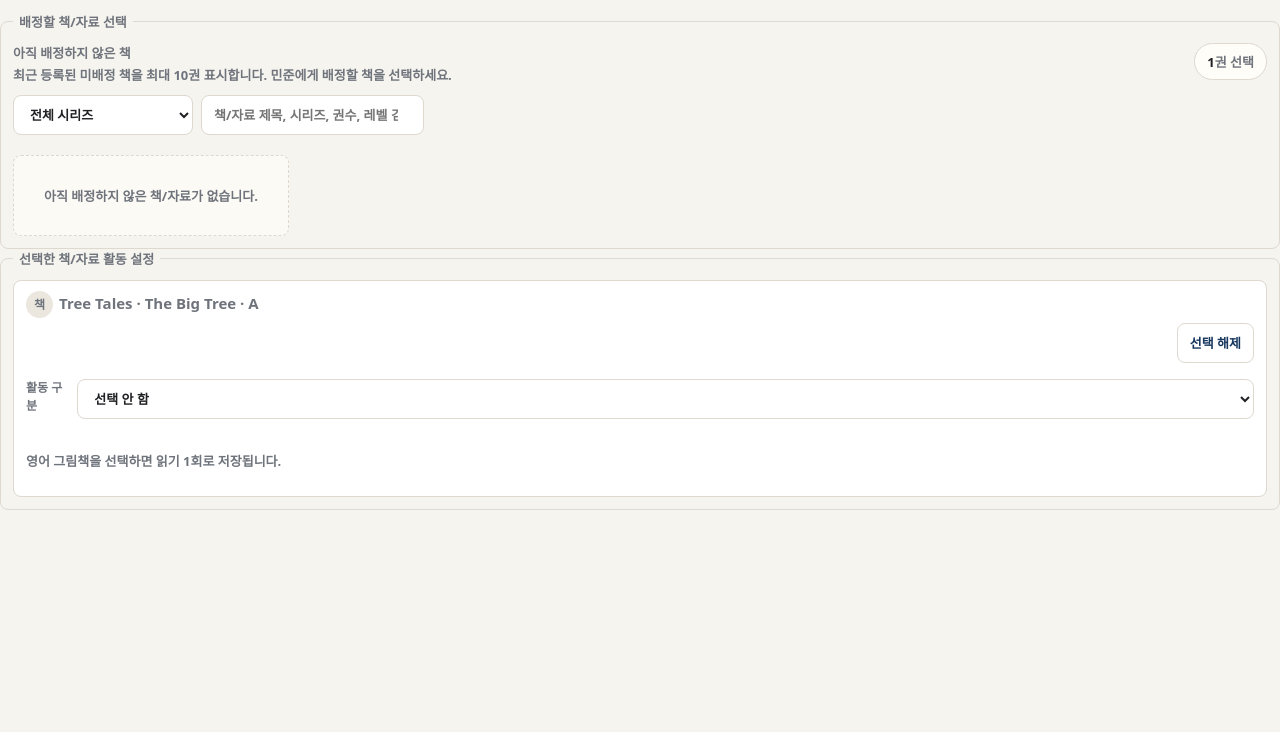
Test: D06-N02: 일반 책은 허용 활동과 그림책 읽기 기본 횟수·퀴즈를 표시한다
This screenshot has width=1280, height=732.
Select "영어 그림책" in the dropdown labelled "활동 구분" at (666, 399), box left=77, top=379, right=1254, bottom=419
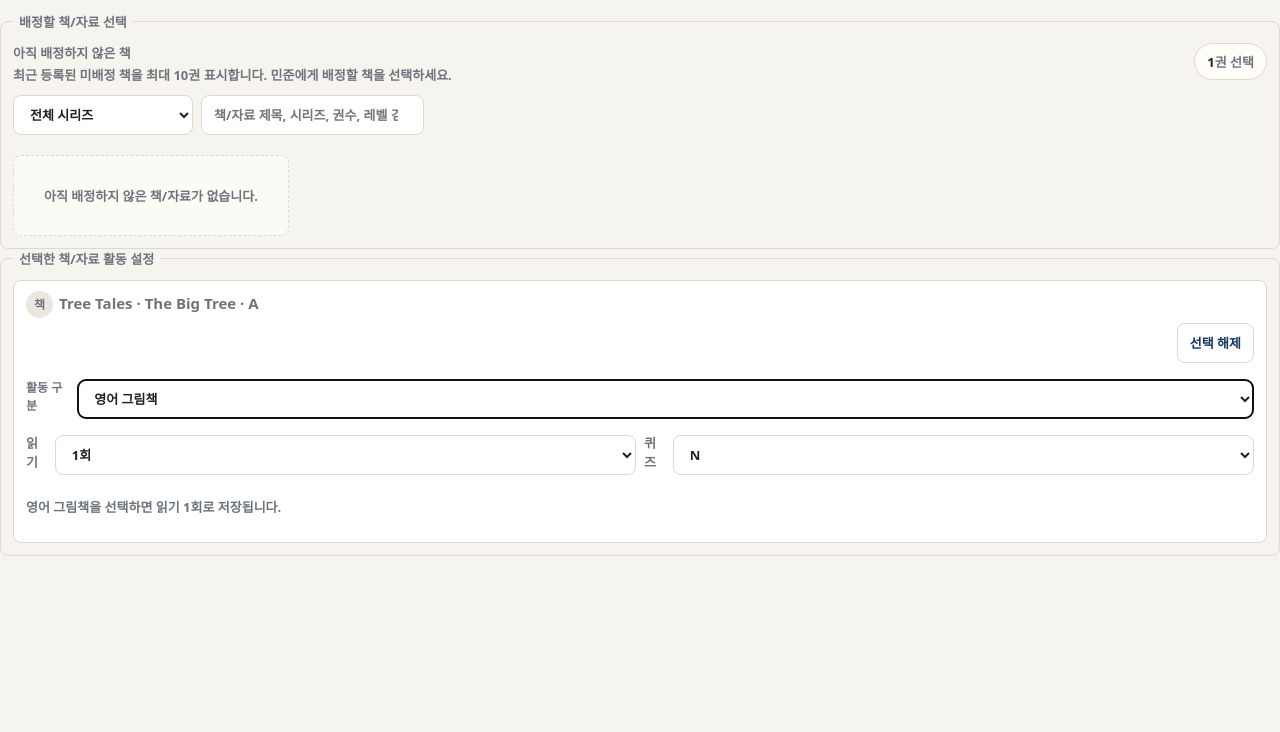
Expected: the dropdown labelled "읽기" shows "1회", left=55, top=435, right=636, bottom=475
